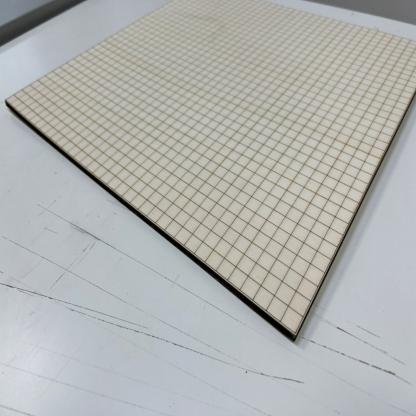grid: (3, 0, 416, 350)
